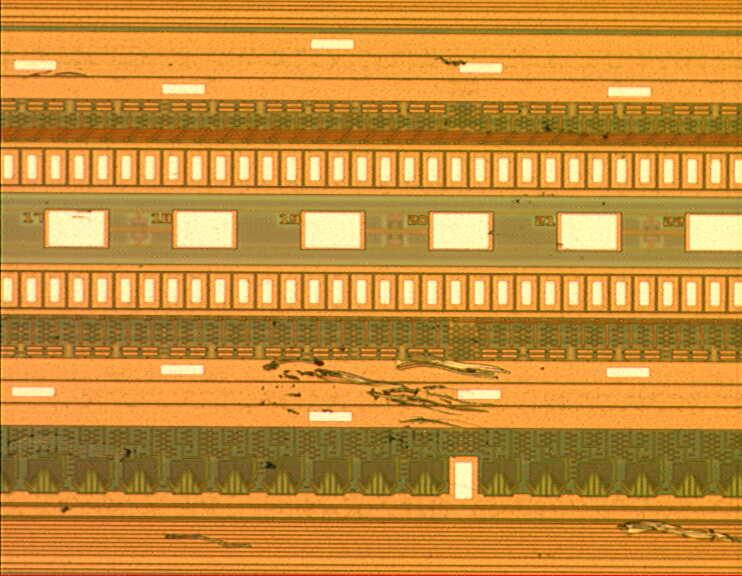SCRATCH: (148, 336, 742, 565)
